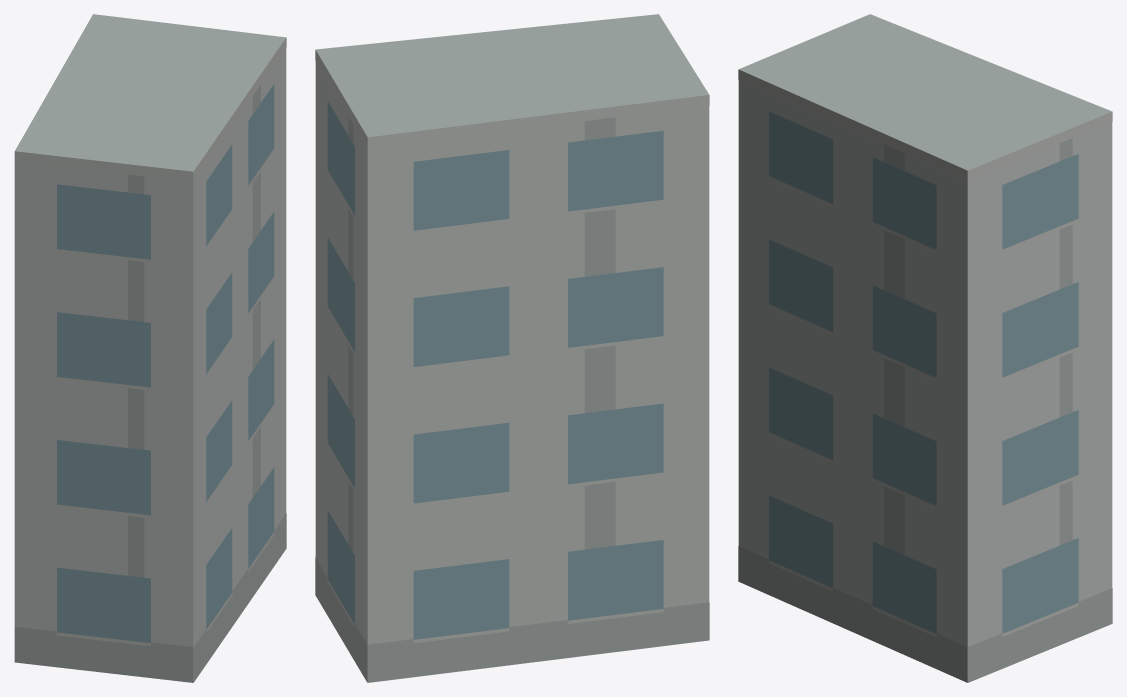
The model's file is survey-upis-32522142.glb.
3 views of the same model, side by side, from view 1: azimuth 30°, elevation 25°; view 2: azimuth 150°, elevation 25°; view 3: azimuth 270°, elevation 25° (orthographic). The views are drawn at different scales.
Parts seen in each view (by area): view 1: survey-upis-32522142.tmp; view 2: survey-upis-32522142.tmp; view 3: survey-upis-32522142.tmp.
Boxes of the visible parts, x1,y1,x2,y2 form: survey-upis-32522142.tmp: (14,14,286,682); survey-upis-32522142.tmp: (315,14,709,682); survey-upis-32522142.tmp: (738,14,1112,682).
Bounding box in the file's own units: 8.01 × 12.2 × 8.08.
